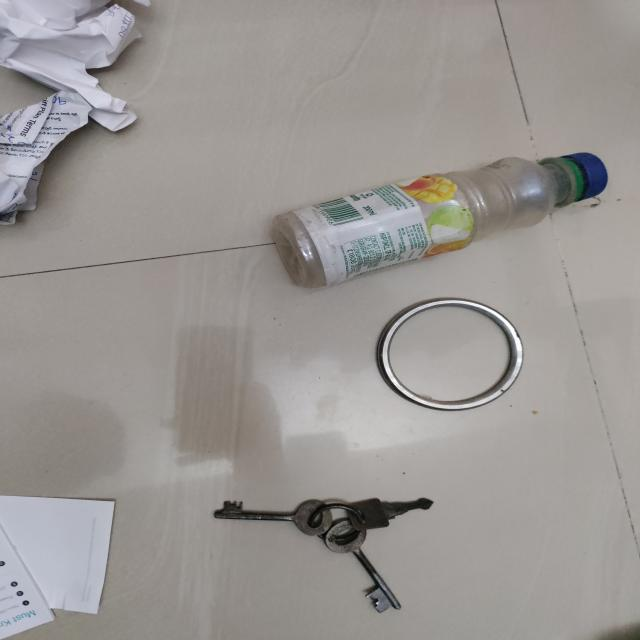metal: (216, 491, 434, 611), (376, 299, 522, 412)
paper: (0, 0, 138, 131), (0, 490, 118, 640), (0, 91, 92, 223)
plastic: (269, 151, 610, 281)
